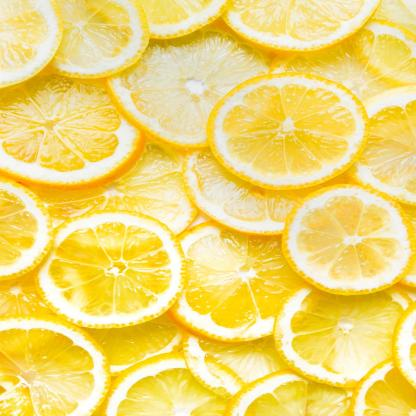--: (30, 217, 198, 342), (207, 74, 374, 195), (273, 181, 414, 295)
